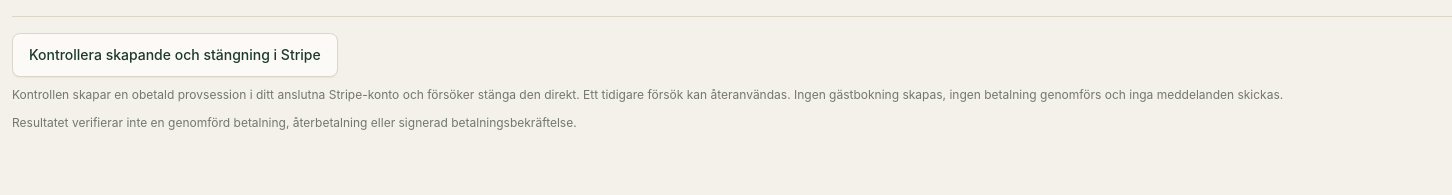
Test case: explicit owner Stripe create-and-close check › renders fixed text for in_progress and discards unexpected provider/customer fields
What coordinates should you click on to do the following:
click the button "Kontrollera skapande och stängning i Stripe"
I would click on:
 (175, 55)
Its box is [12,33,338,77].
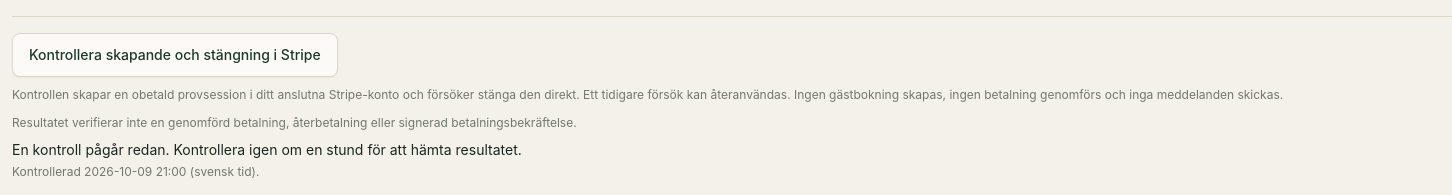
Expected: the message shows "En kontroll pågår redan. Kontrollera igen om en stund för att hämta resultatet.", [12,141,522,158]
